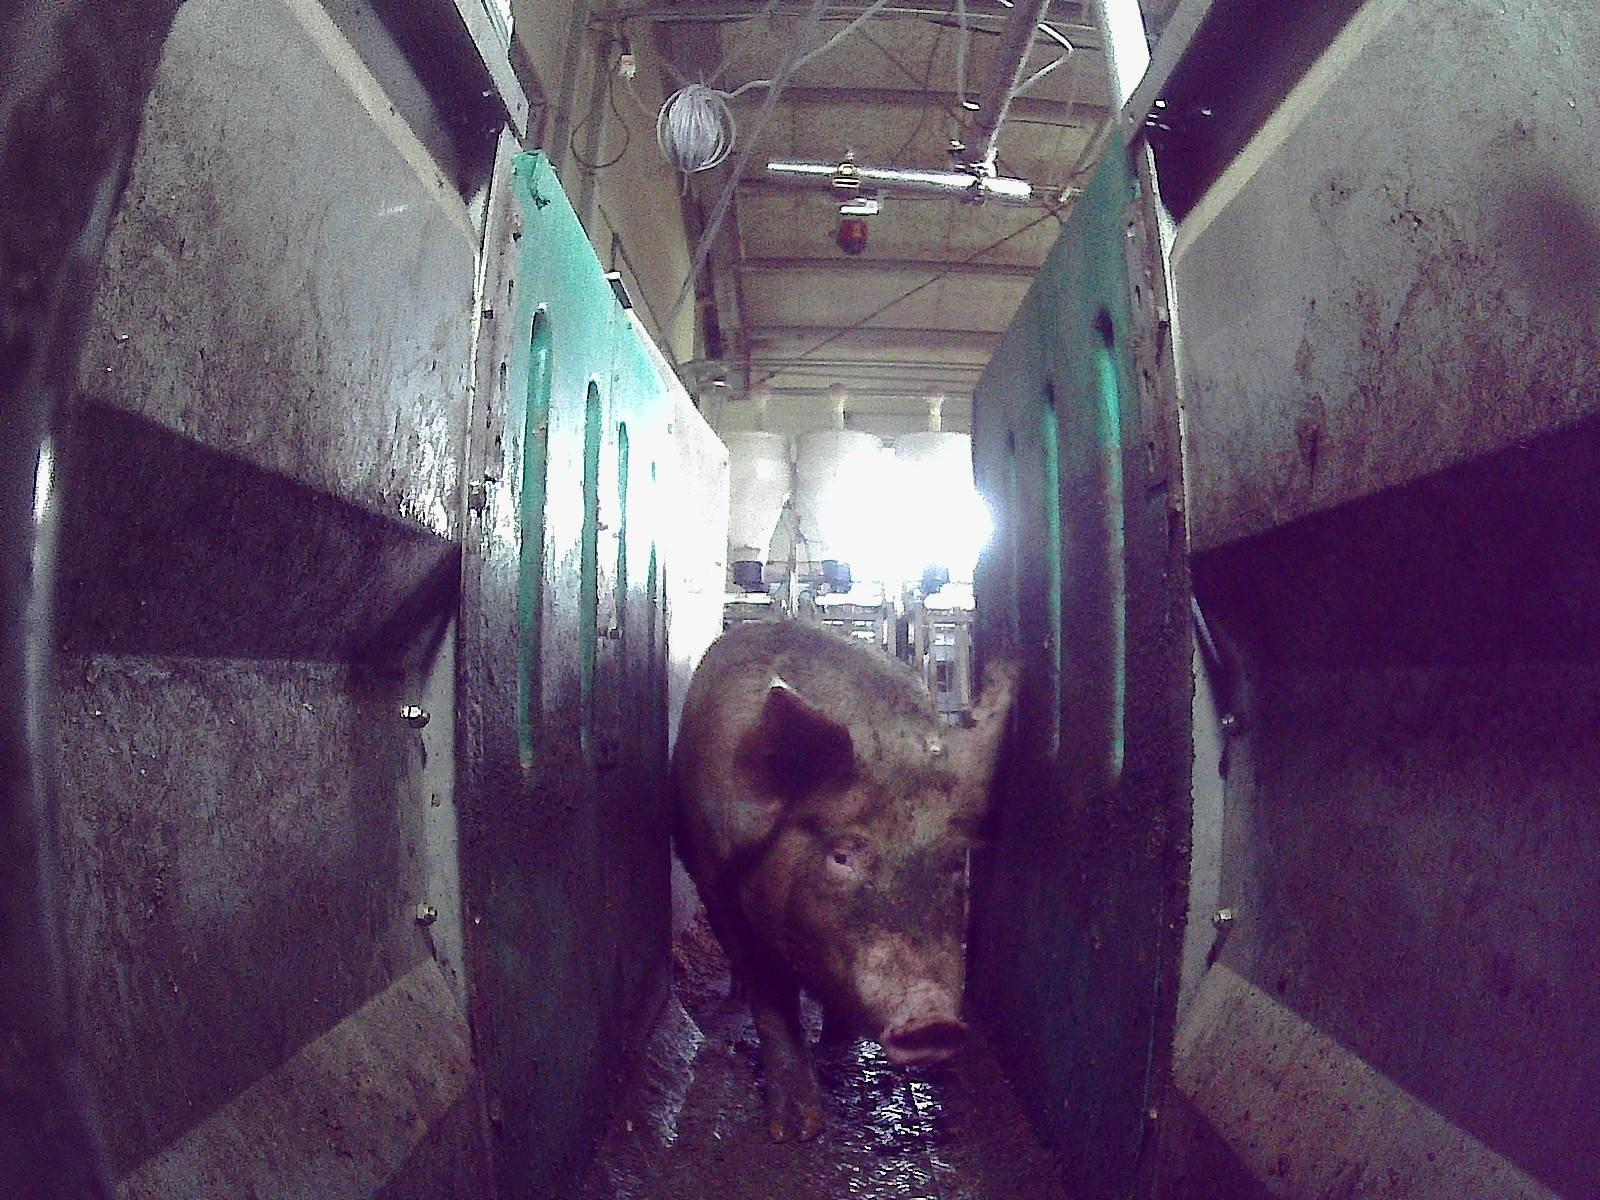Face: (786, 755, 970, 1062)
